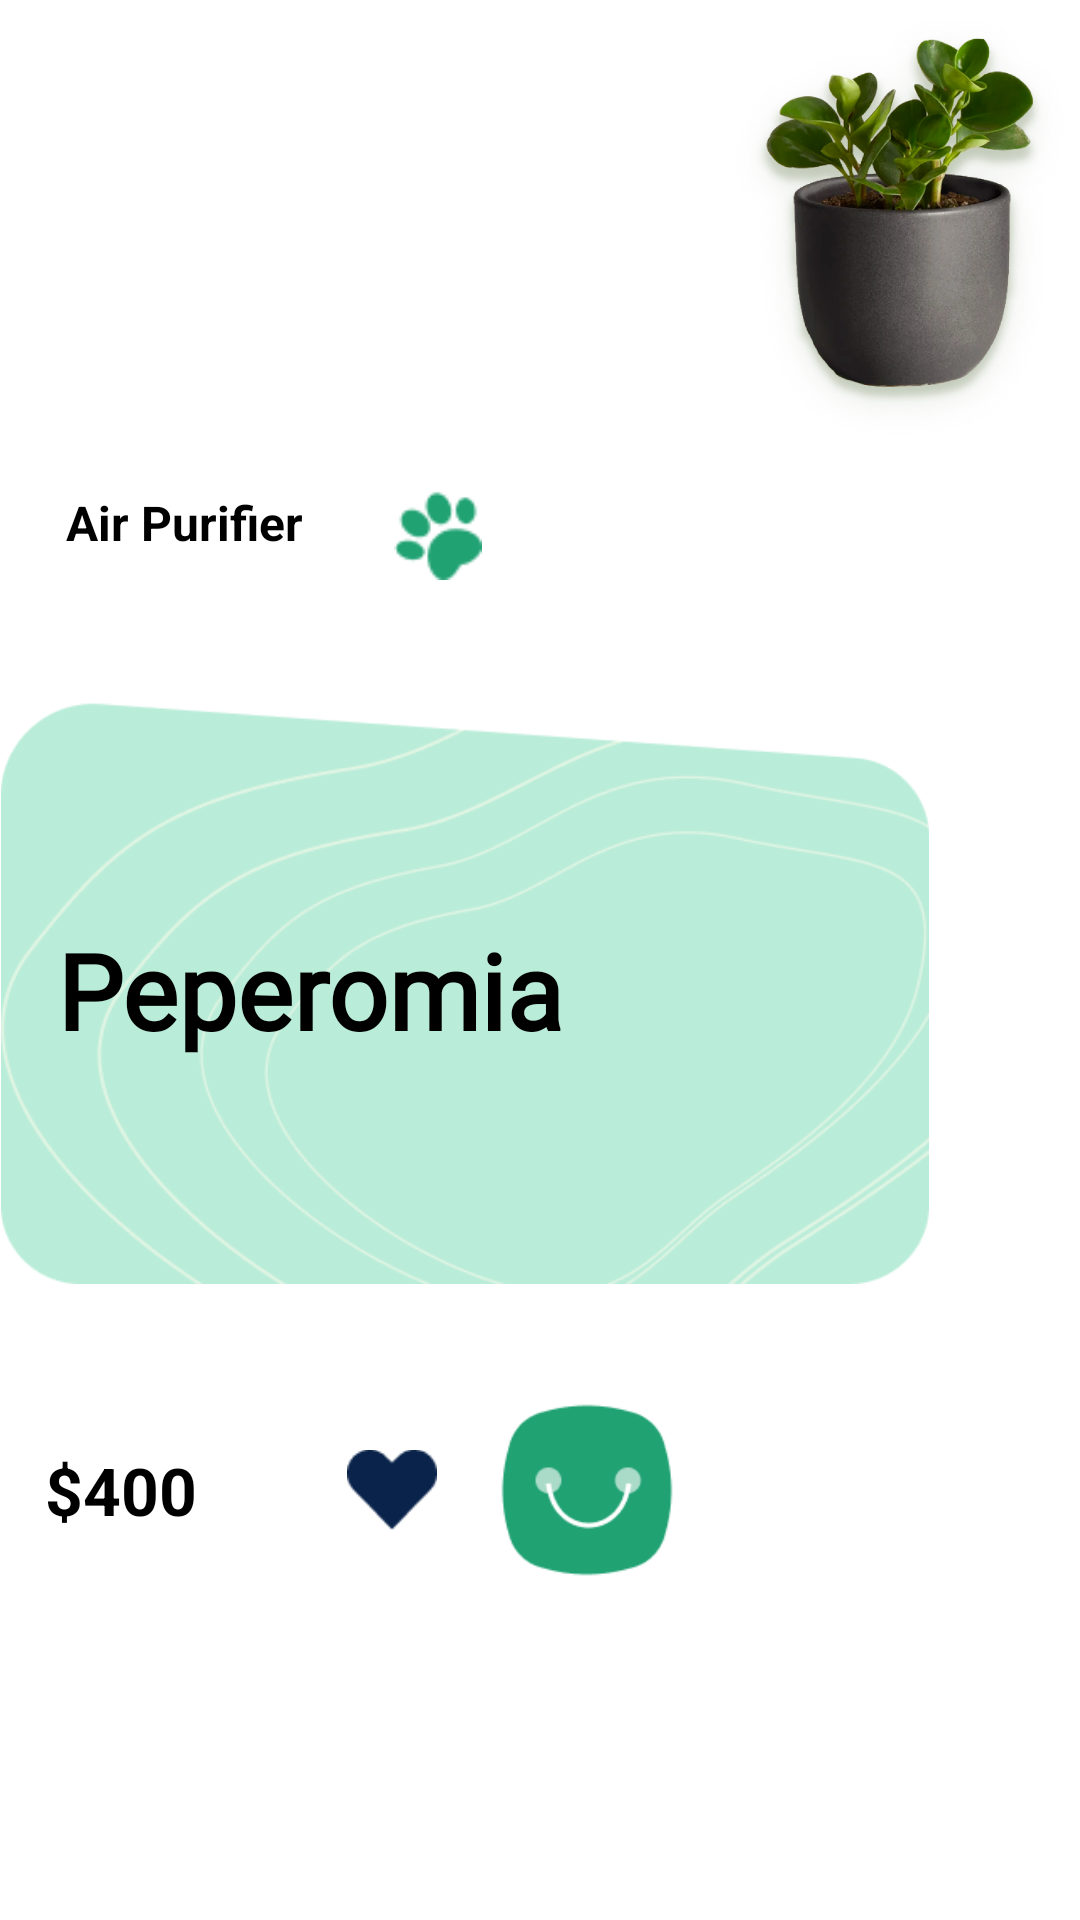

Where icons sit on this 1080w x 1920h app screen, as (x1, y1, x2, y2):
dog footprint: (394, 492, 482, 580)
heart: (347, 1450, 437, 1530)
